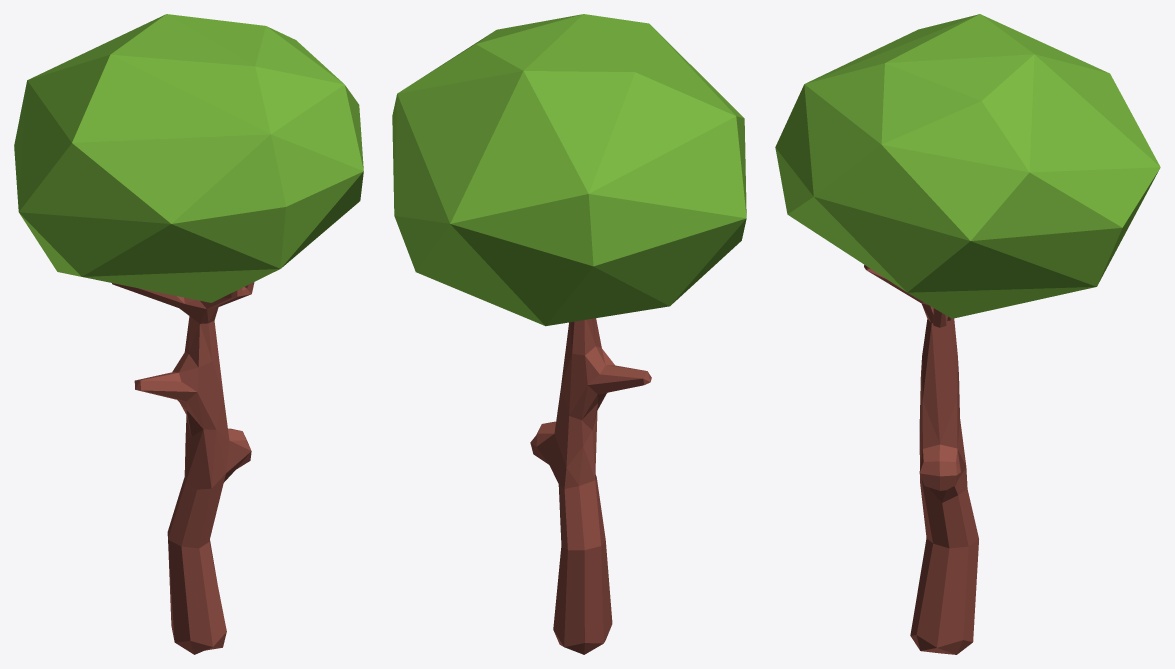
Rendered from LowPolyTree2.fbx.
The picture shows the model from 3 angles, left to right: view 1: azimuth 30°, elevation 25°; view 2: azimuth 150°, elevation 25°; view 3: azimuth 270°, elevation 25°; orthographic projection.
Parts seen in each view (by area): view 1: Icosphere, Cube; view 2: Icosphere, Cube; view 3: Icosphere, Cube.
Boxes of the visible parts, box(x1,y1,x2,y2) form: Icosphere: box(14, 14, 363, 302); Cube: box(112, 282, 254, 654); Icosphere: box(392, 14, 746, 326); Cube: box(530, 318, 651, 654); Icosphere: box(775, 14, 1160, 318); Cube: box(864, 265, 978, 654).
Size of the model in its own units: 680 by 1131 by 653.
